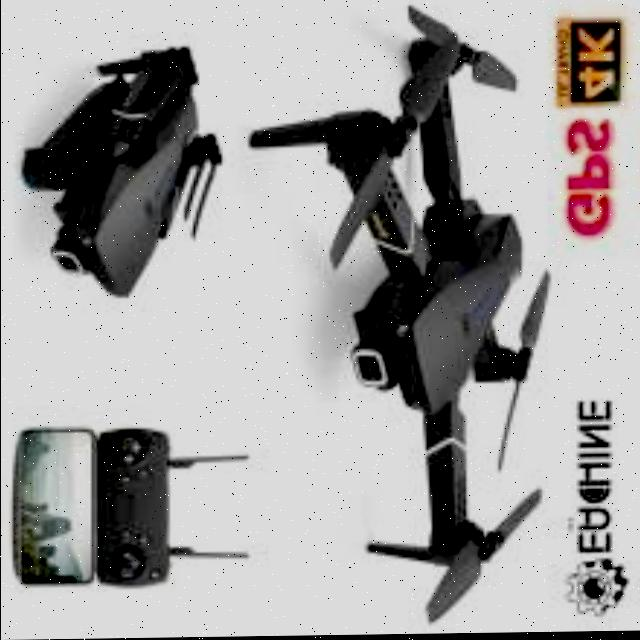drone: (244, 0, 564, 637)
